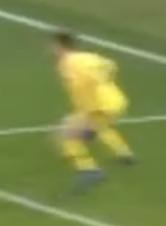goalkeeper: (37, 18, 148, 199)
